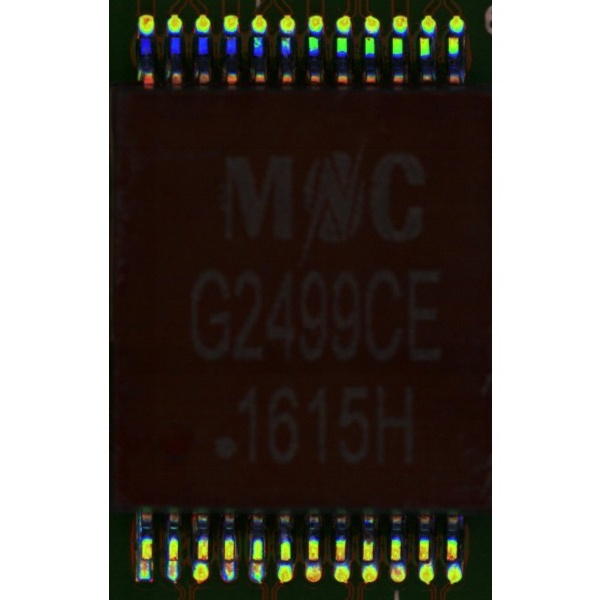Bad_podu: (252, 553, 261, 571), (141, 552, 149, 572), (168, 551, 174, 573), (225, 553, 232, 571)
